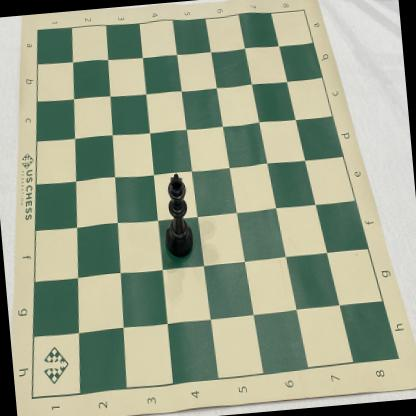king: (160, 172, 196, 260)
